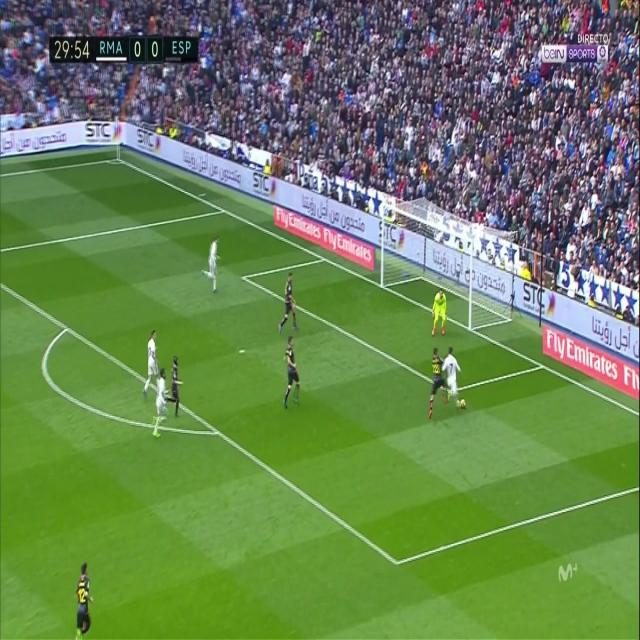Ball: (459, 394, 467, 412)
Goalkeeper: (431, 284, 448, 342)
Player: (275, 269, 300, 338), (279, 335, 301, 413), (426, 345, 447, 423), (73, 562, 94, 639), (150, 366, 170, 445), (140, 327, 160, 398), (200, 235, 222, 296), (442, 344, 462, 405), (167, 351, 184, 420)
